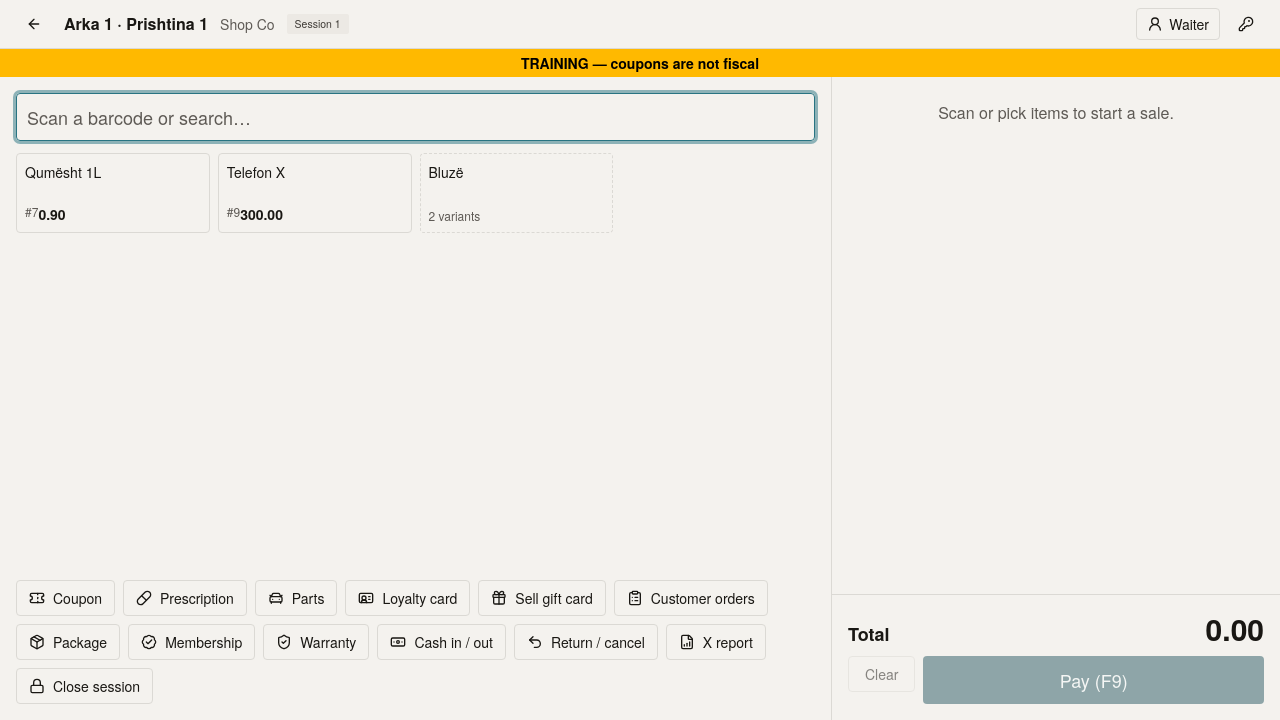
Scenario: Till — variants, serials and customer orders (P2) › asks for the serial number of a serial-tracked item and sends it on a line of one
In the field labelled "Scan a barcode or search…": (416, 117) [16, 93, 815, 141], type "111"
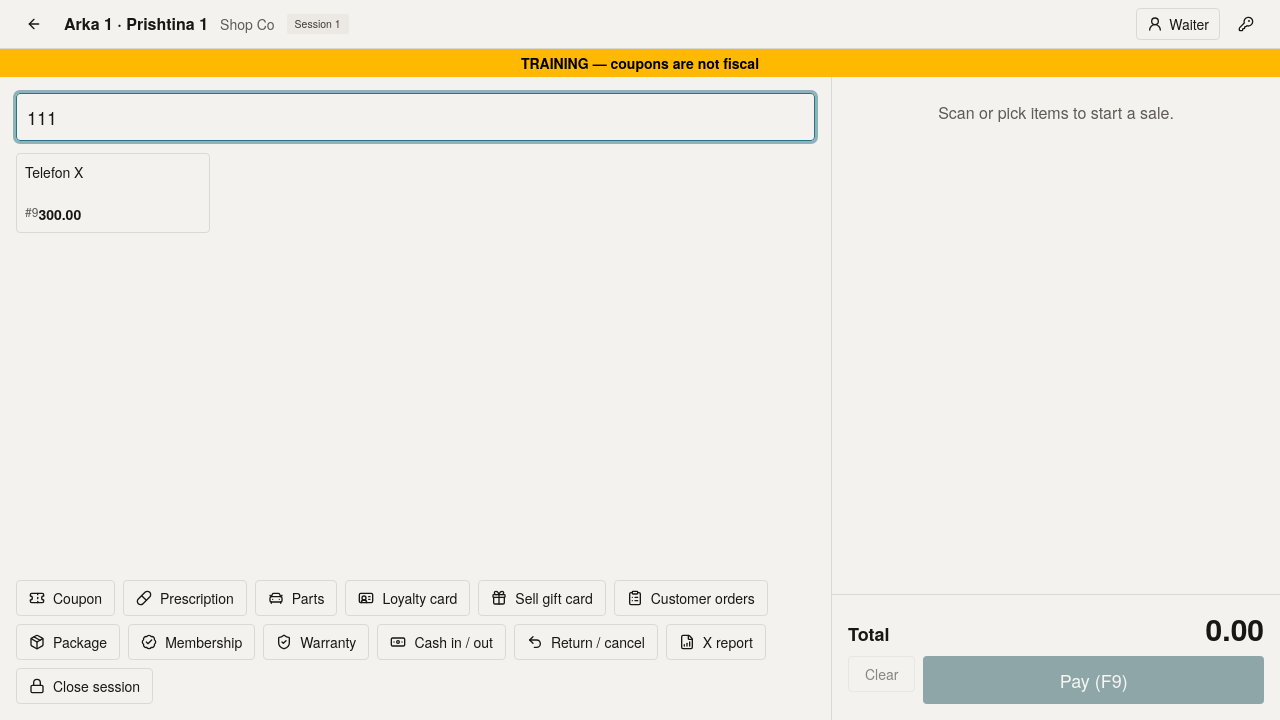
Press Enter in the field named "Scan a barcode or search…", box [16, 93, 815, 141]
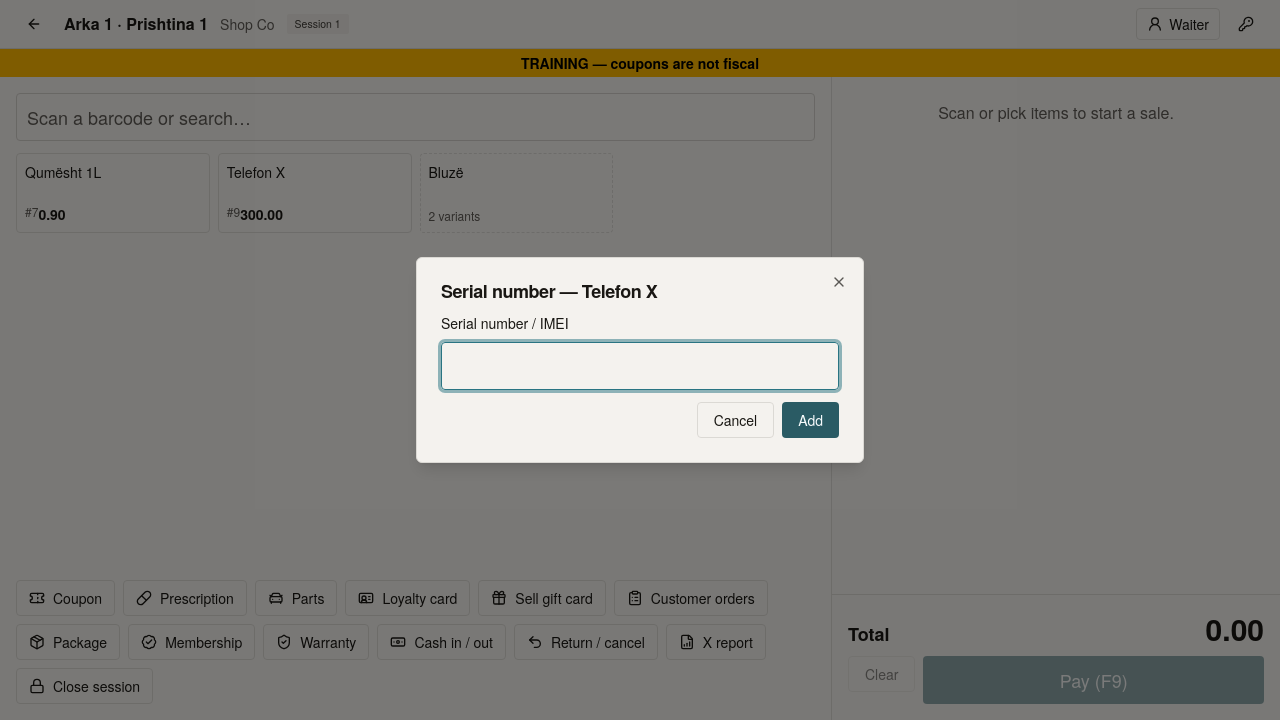
Required: an empty serial is refused.
Click the button "Add": (811, 420) [782, 402, 839, 438]
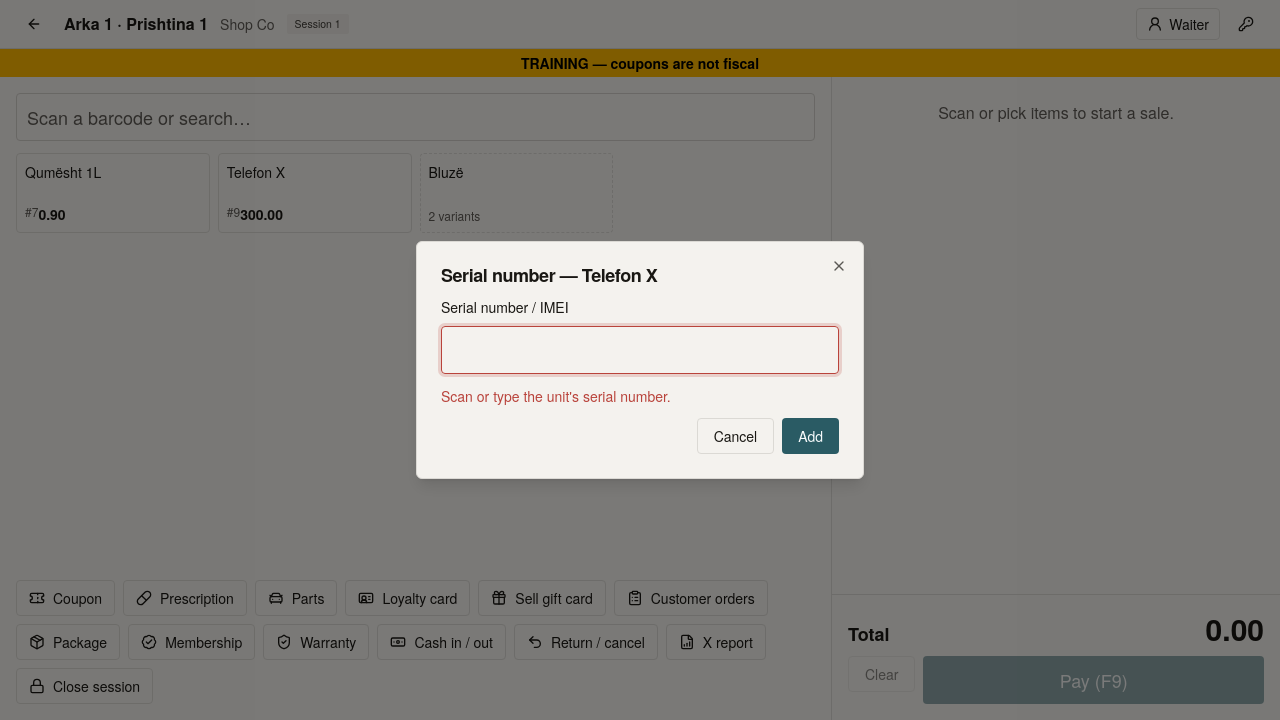
Check: the text "Scan or type the unit's serial number." is shown, box [441, 386, 671, 406]
In the field labelled "Serial number / IMEI": (640, 350) [441, 326, 839, 374], type "IMEI-1"
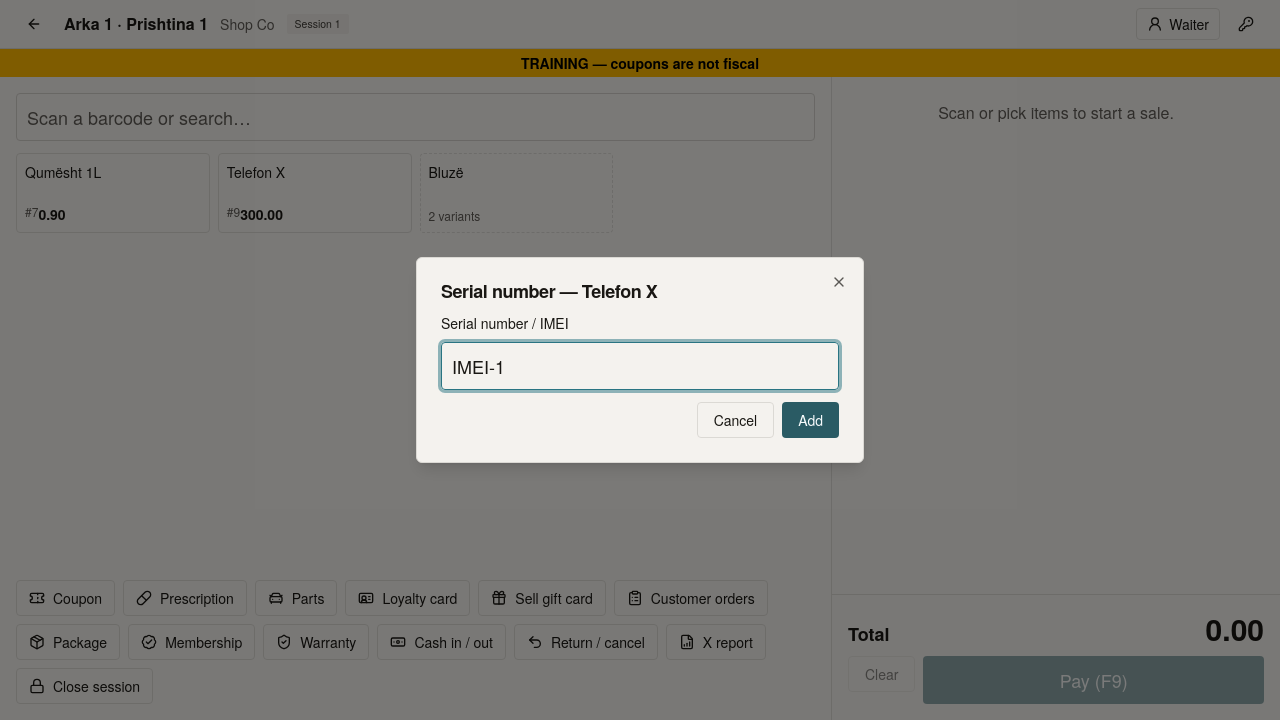
Click the button "Add": (811, 420) [782, 402, 839, 438]
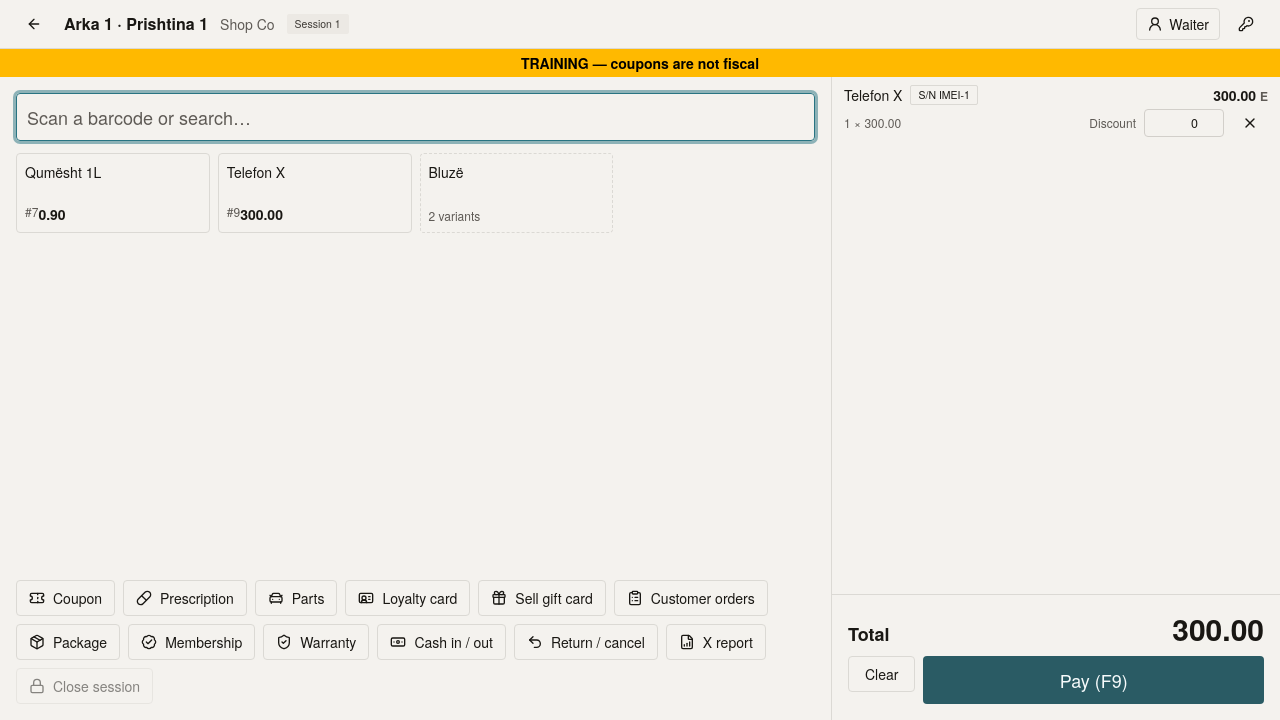
Check: the text with test id "line-serial" shows "IMEI-1", box [918, 87, 970, 102]
